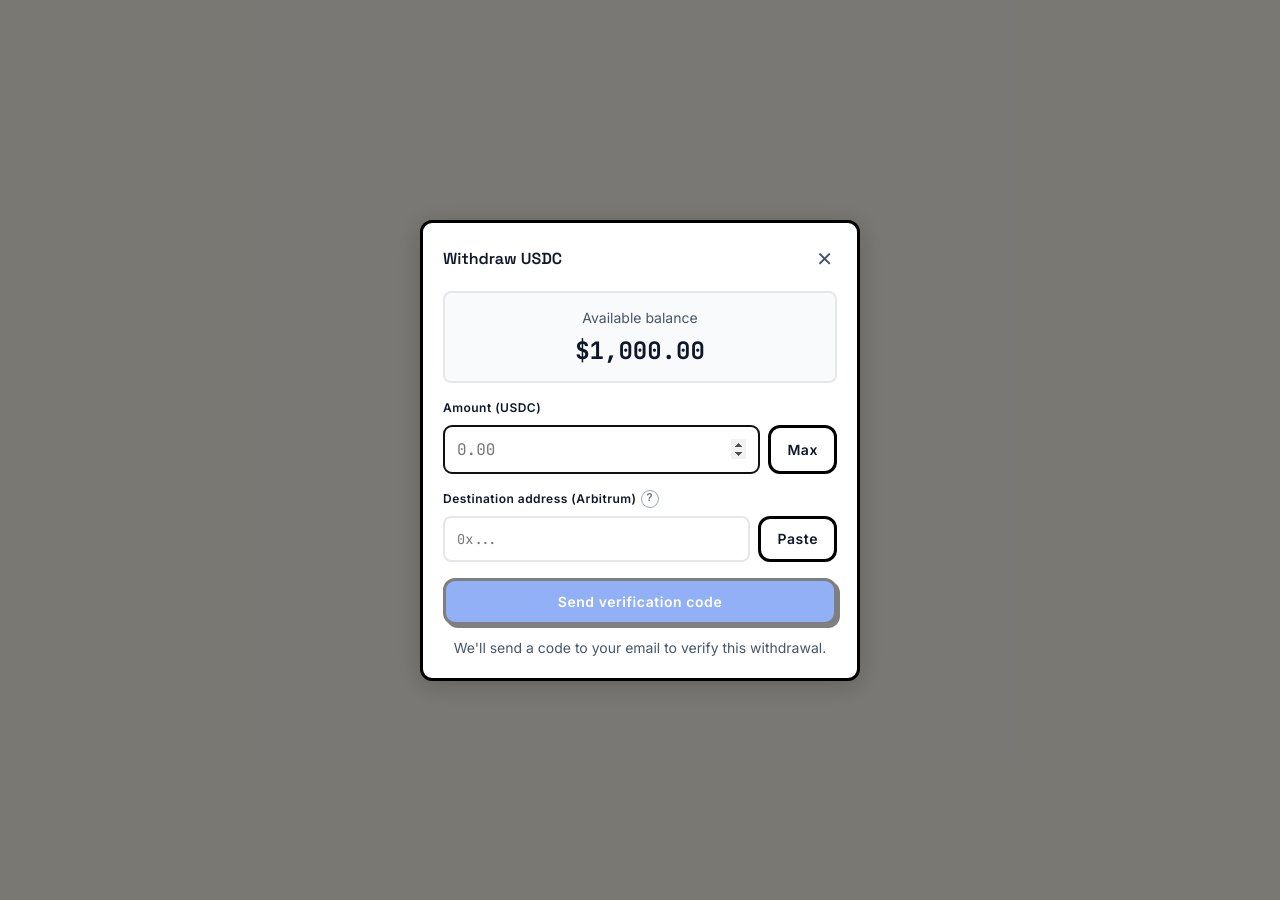
WithdrawSheet › shows loading text while sending code
This screenshot has width=1280, height=900.
Type "100" into the number field labelled "Amount (USDC)".
click(602, 449); type("100")  # box [443,424,760,474]
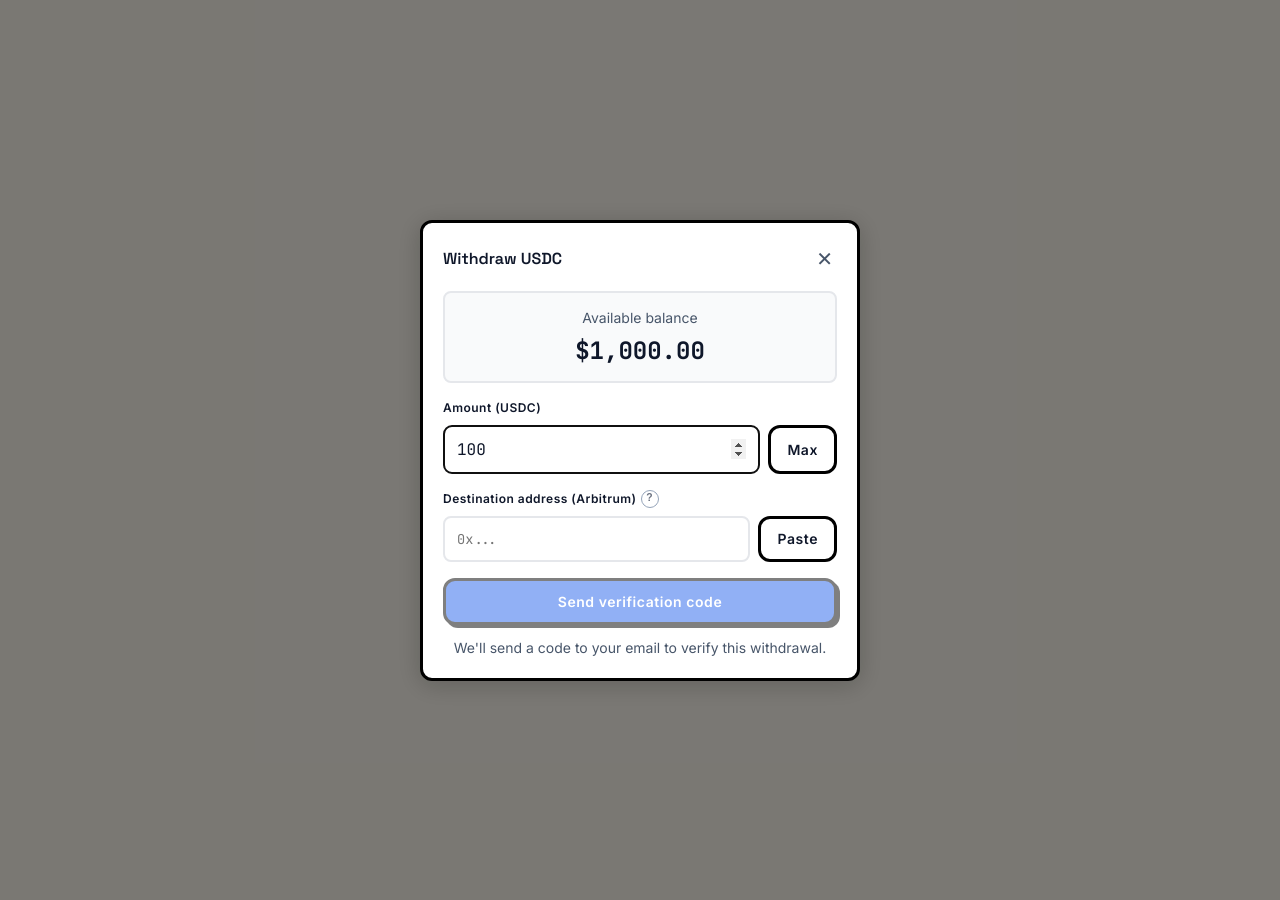
Type "0xAbCdEf1234567890AbCdEf1234567890AbCdEf12" into the field labelled "Destination address (Arbitrum)".
click(597, 538); type("0xAbCdEf1234567890AbCdEf1234567890AbCdEf12")  # box [443,516,750,562]
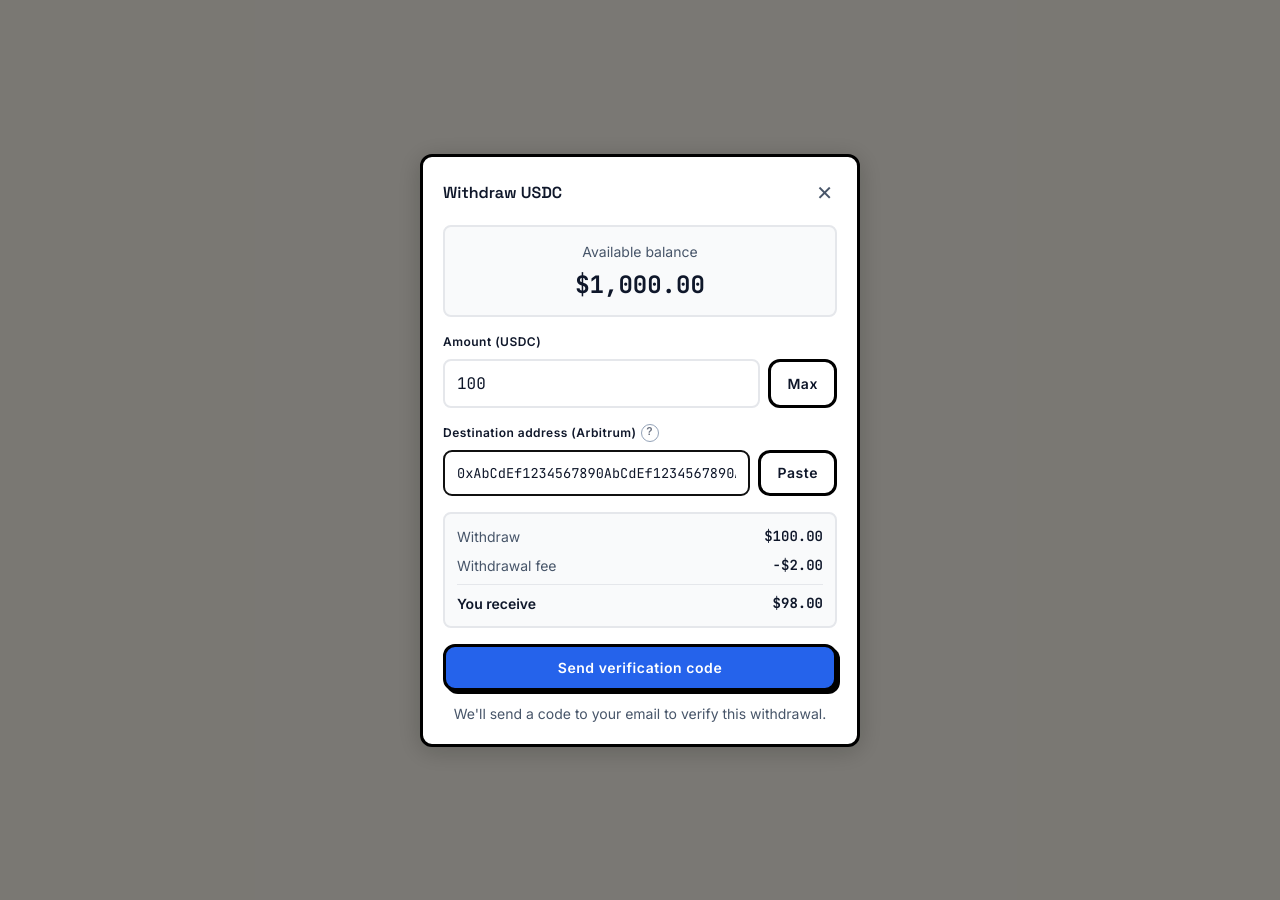
Click the button "Send verification code".
click(640, 667)  # box [443,644,837,690]
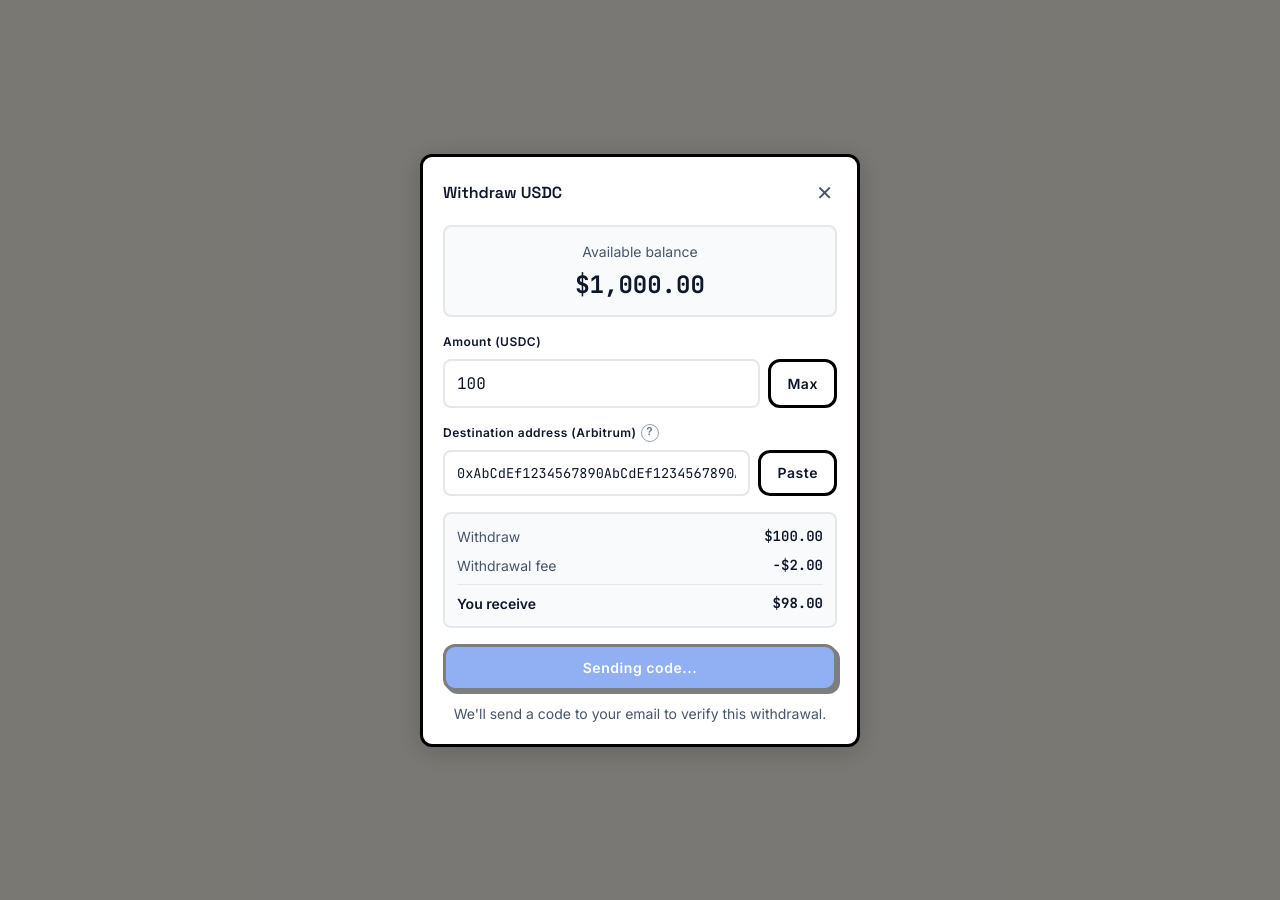
Result: the button "Sending code..." is shown at [443,644,837,690]
